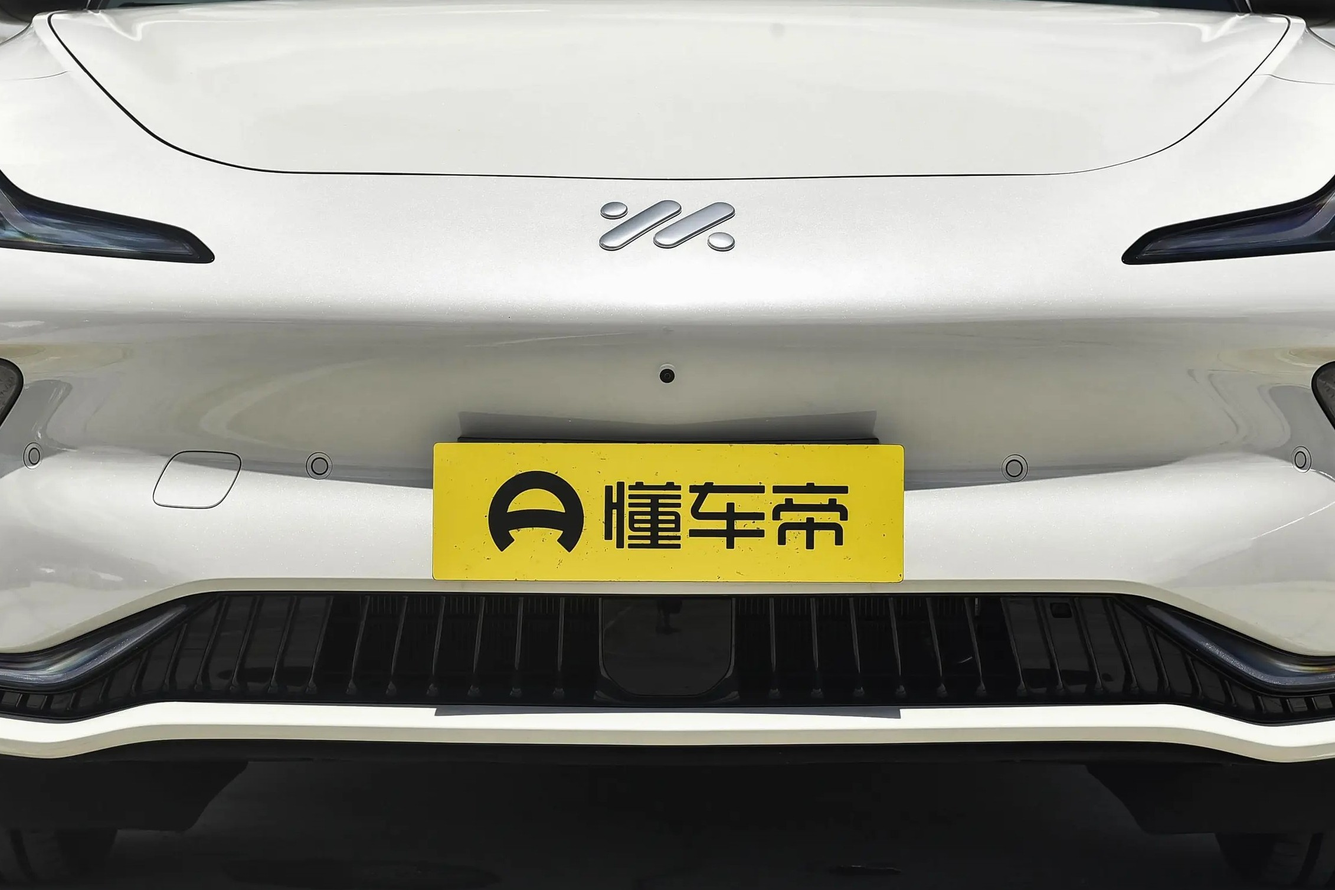IM: (600, 201, 734, 251)
